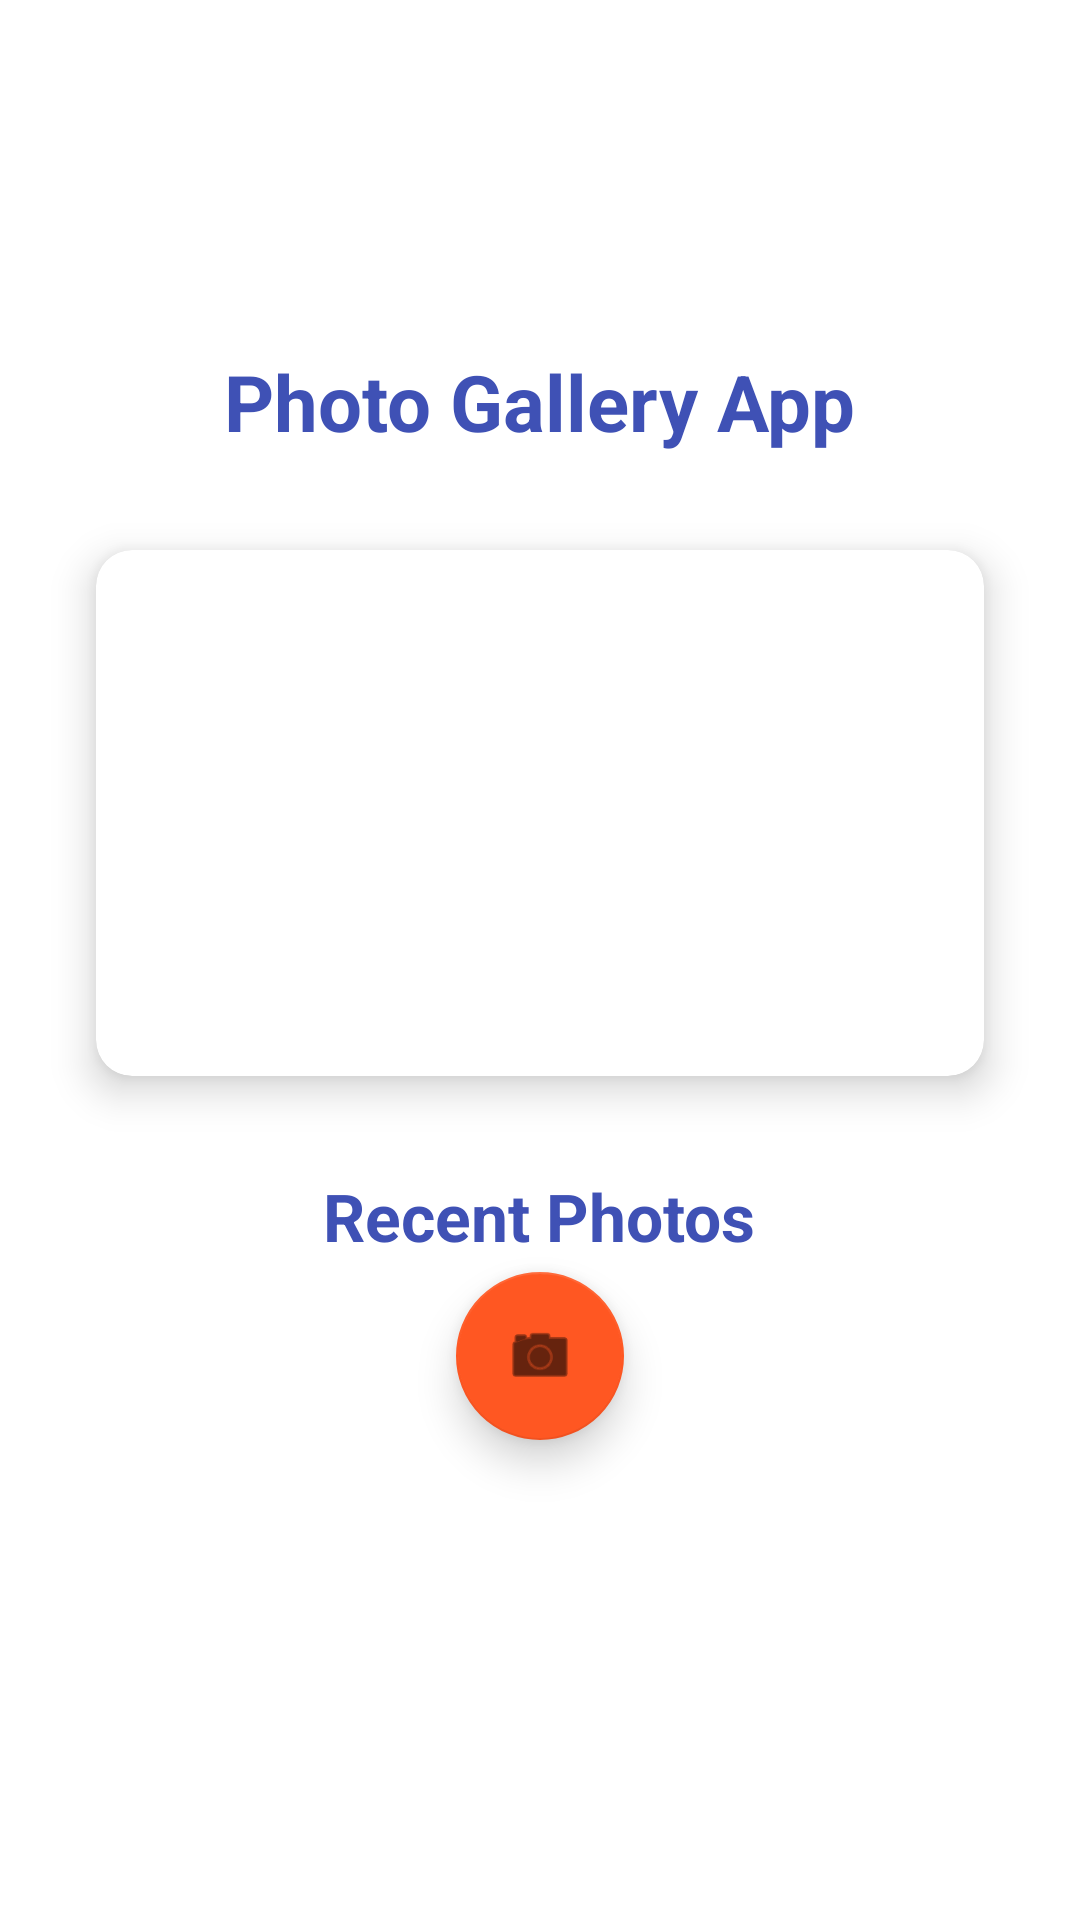

Icon click points for this 1080×1920 phone screenshot, format (x=x, y=y):
Take Photo: (x=540, y=1356)
